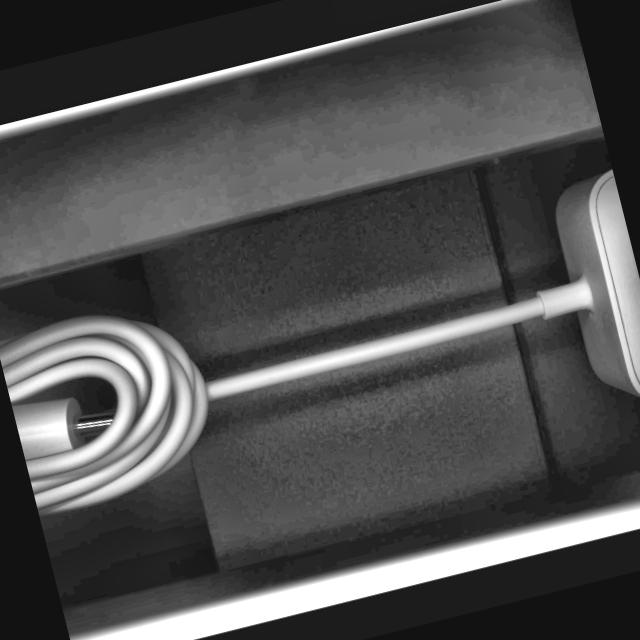Cable: (0, 158, 640, 563)
